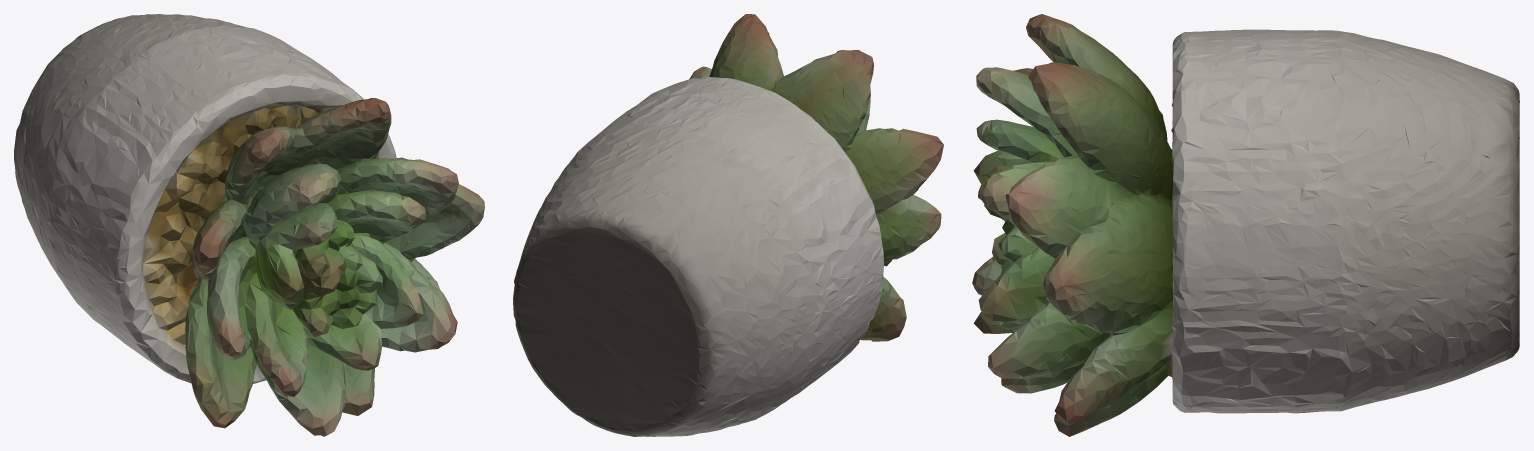
File: potted_plant_1.glb
The picture shows the model from 3 angles, left to right: view 1: azimuth 30°, elevation 25°; view 2: azimuth 150°, elevation 25°; view 3: azimuth 270°, elevation 25°; orthographic projection. The views are drawn at different scales.
Visible parts, largest first — view 1: geometry_0; view 2: geometry_0; view 3: geometry_0.
Part boxes in pixels (x1,y1,x2,y2): geometry_0: [14, 14, 484, 436]; geometry_0: [513, 14, 943, 436]; geometry_0: [972, 14, 1519, 436].
Size of the model in its own units: 0.7693 by 0.7468 by 1.
